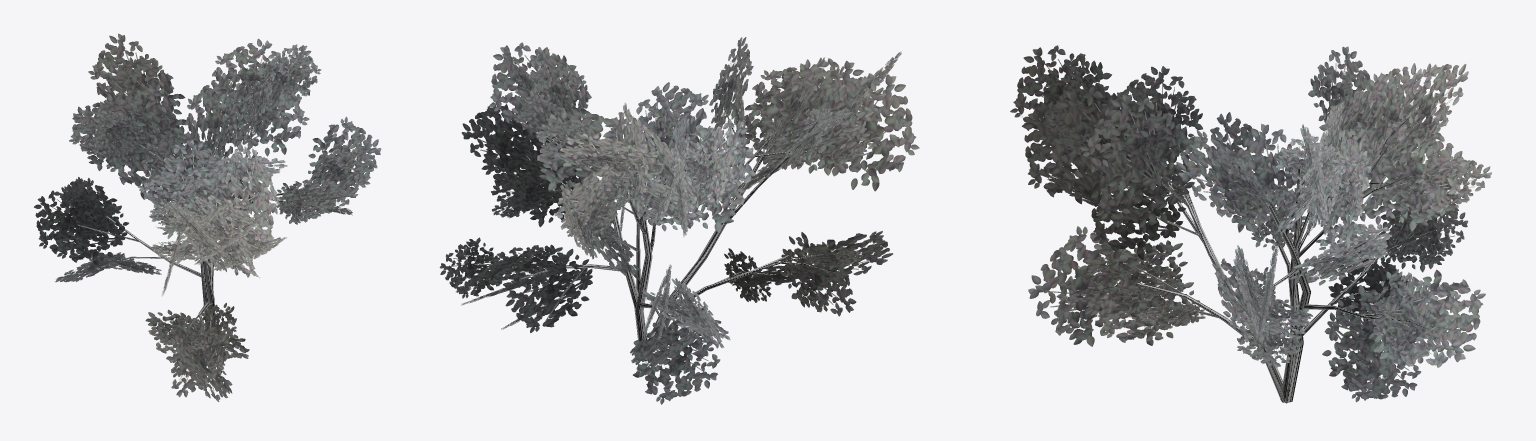
Rendered from shrub_twig_l0.gltf.
3 renders of one model, left to right at view 1: azimuth 30°, elevation 25°; view 2: azimuth 150°, elevation 25°; view 3: azimuth 270°, elevation 25°, orthographic. The views are drawn at different scales.
Visible parts, largest first — view 1: shrub_twig_l0; view 2: shrub_twig_l0; view 3: shrub_twig_l0.
Boxes of the visible parts, left/top/right/bottom form: shrub_twig_l0: left=34, top=33, right=381, bottom=401; shrub_twig_l0: left=439, top=37, right=919, bottom=404; shrub_twig_l0: left=1010, top=45, right=1491, bottom=403.
Size of the model in its own units: 1.95 by 1.57 by 2.17.
2 materials, 2 textured.
